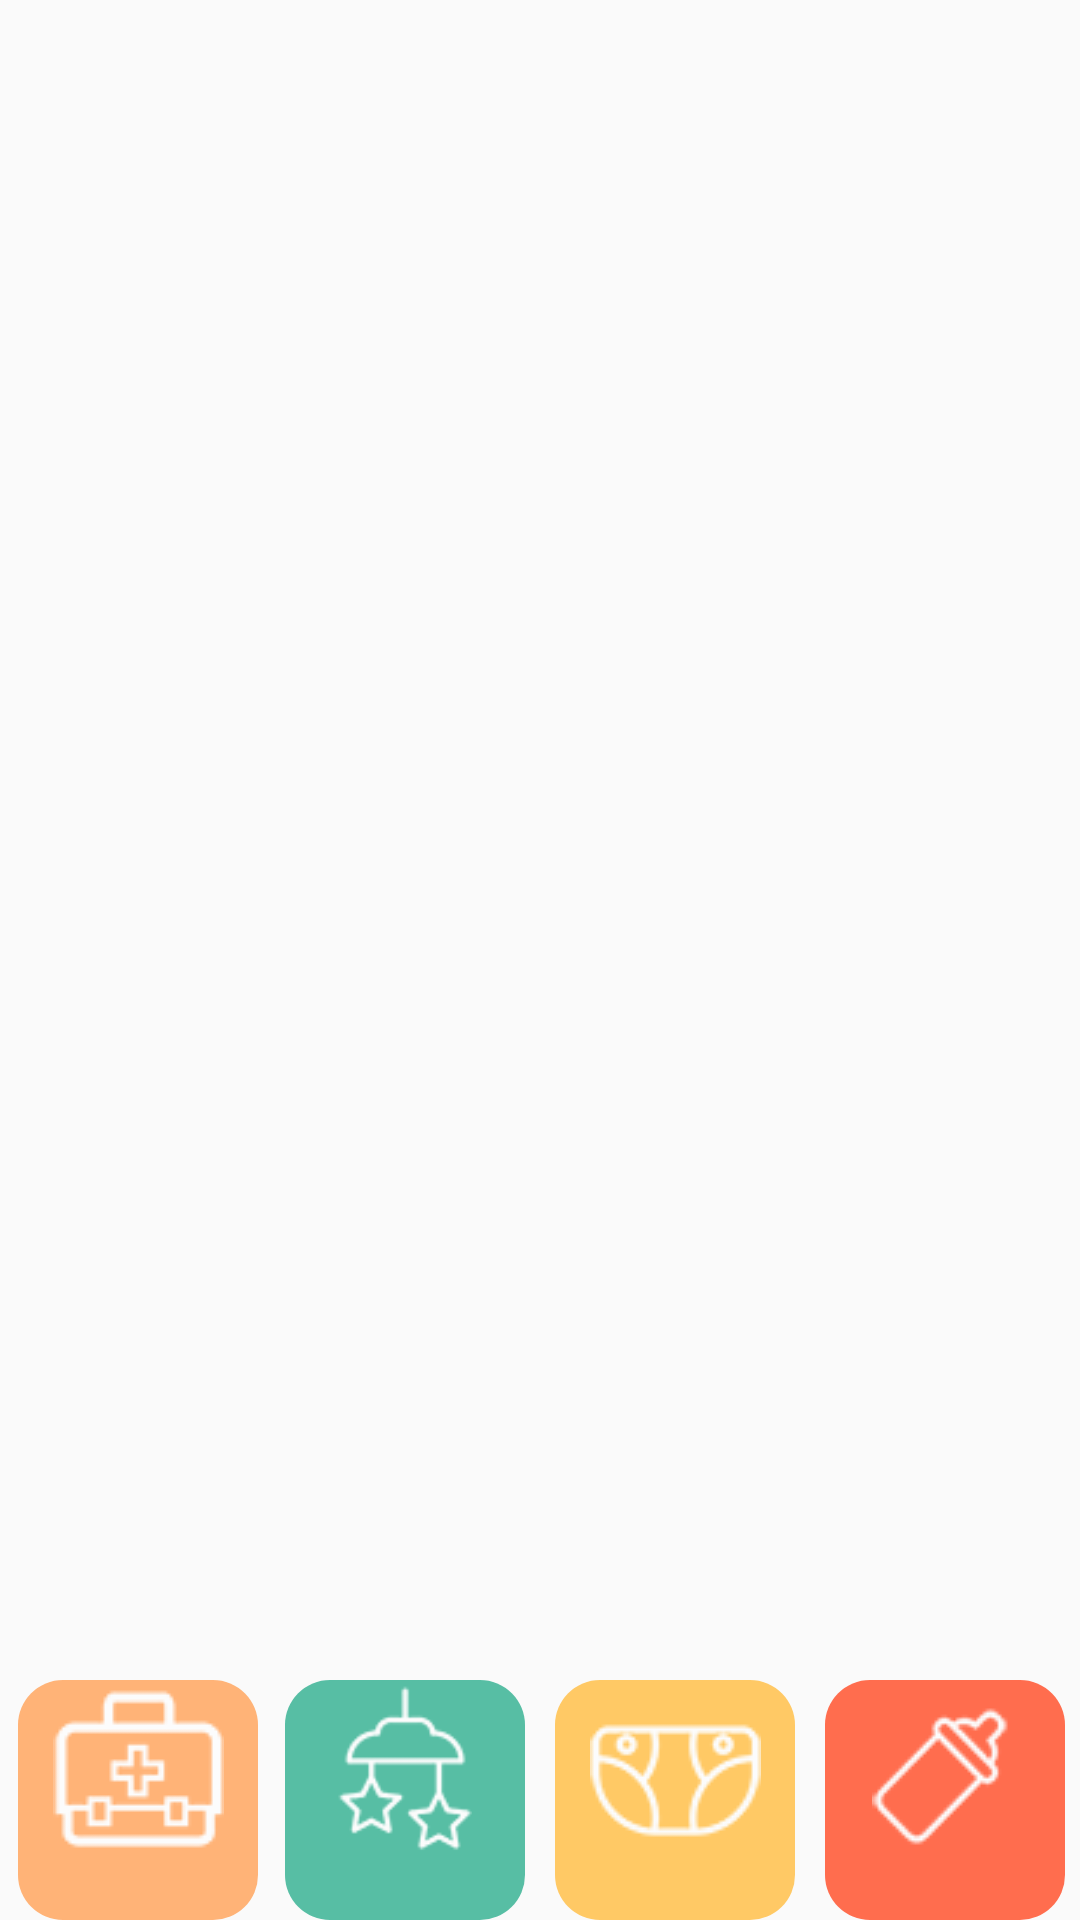

Where to tap for icons on this 1080 × 1920 app screen, as [x,y]:
diaper: [675,1800]
medicine: [138,1800]
milk: [945,1800]
sleep: [405,1800]
